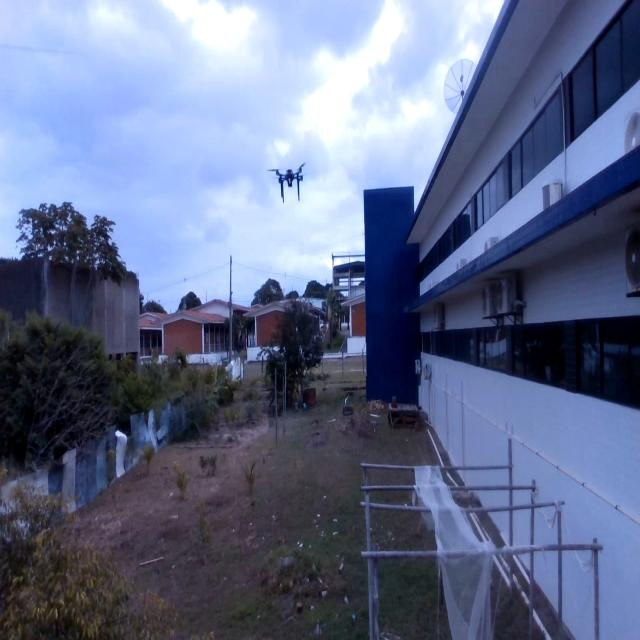-uav-: (259, 146, 318, 208)
